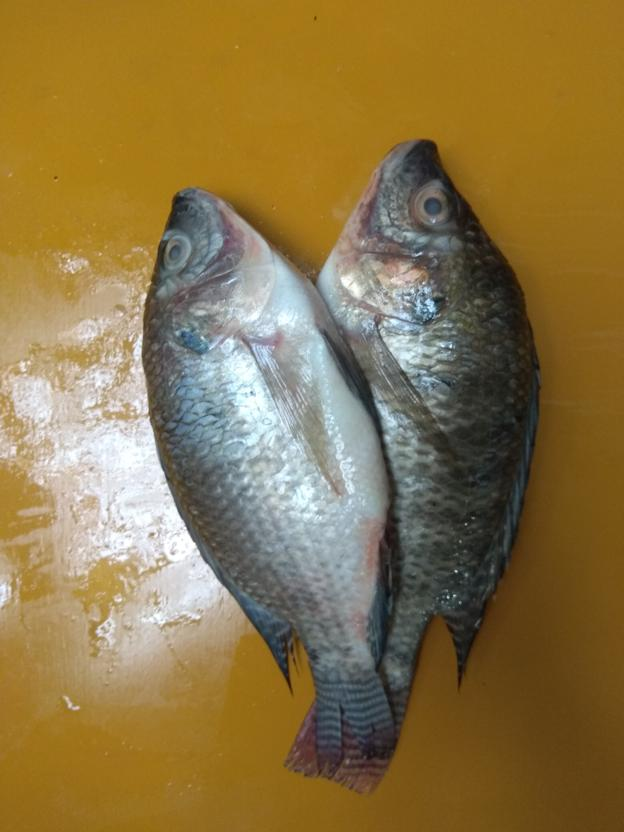Fish head: (324, 135, 498, 327), (141, 186, 308, 355)
Fish tail: (283, 687, 422, 800), (306, 662, 396, 775)
